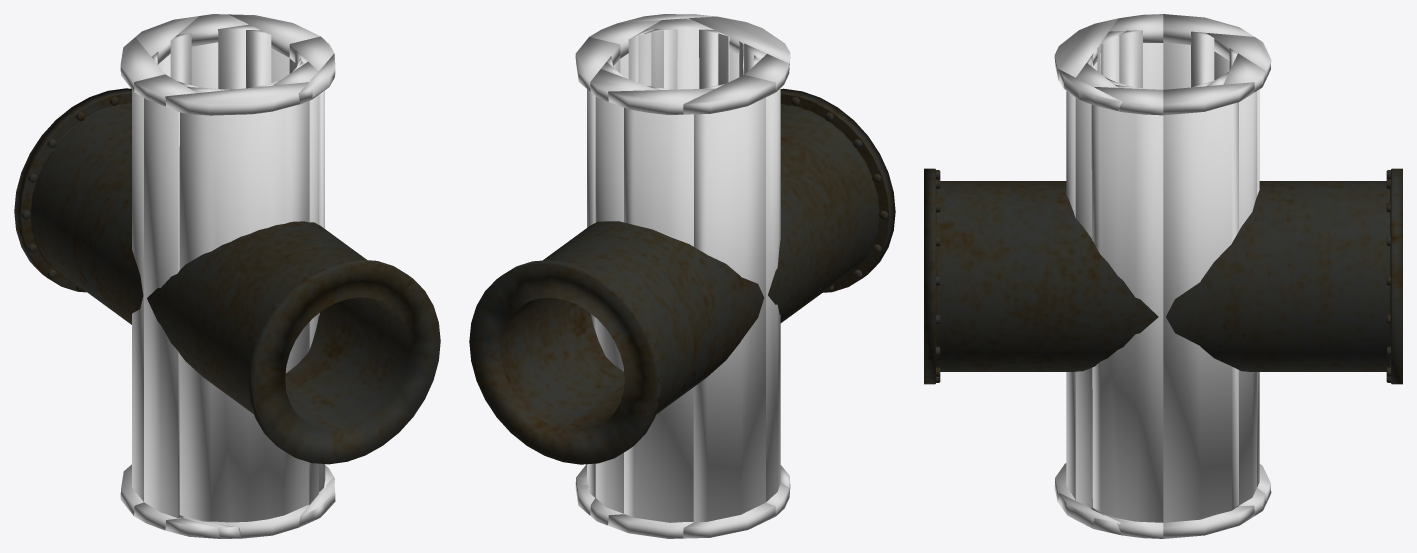
File: SM_Pipes_Small_Half.fbx
3 renders of one model, left to right at view 1: azimuth 30°, elevation 25°; view 2: azimuth 150°, elevation 25°; view 3: azimuth 270°, elevation 25°, orthographic.
Visible parts, largest first — view 1: SM_Pipes_Small_Half_ConvexHulls, SM_Pipes_Small_Half; view 2: SM_Pipes_Small_Half_ConvexHulls, SM_Pipes_Small_Half; view 3: SM_Pipes_Small_Half_ConvexHulls, SM_Pipes_Small_Half.
Part boxes in pixels (box(x1,y1,x2,y2)): SM_Pipes_Small_Half_ConvexHulls: box(120, 14, 335, 538); SM_Pipes_Small_Half: box(14, 88, 440, 464); SM_Pipes_Small_Half_ConvexHulls: box(575, 14, 790, 538); SM_Pipes_Small_Half: box(469, 88, 895, 464); SM_Pipes_Small_Half_ConvexHulls: box(1054, 14, 1271, 538); SM_Pipes_Small_Half: box(924, 168, 1402, 384).
Size of the model in its own units: 0.2251 by 0.5006 by 0.5.
